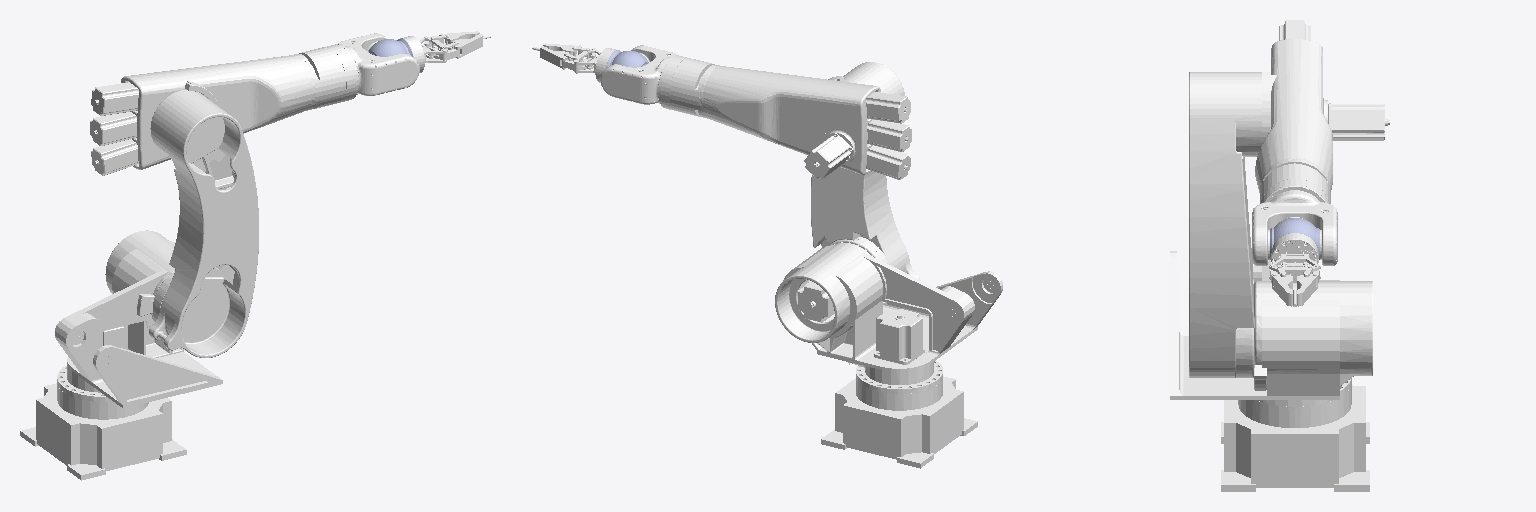
robot.urdf — mysiasun:
<?xml version="1.0" encoding="utf-8"?>
<!-- This URDF was automatically created by SolidWorks to URDF Exporter! Originally created by [author] ([email redacted]) 
     Commit Version: 1.5.1-0-g916b5db  Build Version: 1.5.7152.31018
     For more information, please see http://wiki.ros.org/sw_urdf_exporter -->
<robot
  name="mysiasun">
  <link
    name="base_link">
    <inertial>
      <origin
        xyz="-4.8007E-13 -6.9706E-12 0.11321"
        rpy="0 0 0" />
      <mass
        value="14.928" />
      <inertia
        ixx="0.2462"
        ixy="-9.7488E-13"
        ixz="3.4123E-12"
        iyy="0.2462"
        iyz="-5.4948E-11"
        izz="0.37646" />
    </inertial>
    <visual>
      <origin
        xyz="0 0 0"
        rpy="0 0 0" />
      <geometry>
        <mesh
          filename="package://mysiasun/meshes/base_link.STL" />
      </geometry>
      <material
        name="">
        <color
          rgba="1 1 1 1" />
      </material>
    </visual>
    <collision>
      <origin
        xyz="0 0 0"
        rpy="0 0 0" />
      <geometry>
        <mesh
          filename="package://mysiasun/meshes/base_link.STL" />
      </geometry>
    </collision>
  </link>
  <link
    name="link1">
    <inertial>
      <origin
        xyz="0.13933 -0.023413 0.20748"
        rpy="0 0 0" />
      <mass
        value="24.748" />
      <inertia
        ixx="0.56826"
        ixy="-0.1452"
        ixz="-0.14122"
        iyy="0.82673"
        iyz="-0.035095"
        izz="0.866" />
    </inertial>
    <visual>
      <origin
        xyz="0 0 0"
        rpy="0 0 0" />
      <geometry>
        <mesh
          filename="package://mysiasun/meshes/link1.STL" />
      </geometry>
      <material
        name="">
        <color
          rgba="1 1 1 1" />
      </material>
    </visual>
    <collision>
      <origin
        xyz="0 0 0"
        rpy="0 0 0" />
      <geometry>
        <mesh
          filename="package://mysiasun/meshes/link1.STL" />
      </geometry>
    </collision>
  </link>
  <joint
    name="joint1"
    type="revolute">
    <origin
      xyz="0 0 0.23333"
      rpy="0 0 0" />
    <parent
      link="base_link" />
    <child
      link="link1" />
    <axis
      xyz="0 0 1" />
    <limit
      lower="-3.1416"
      upper="3.1416"
      effort="0"
      velocity="0" />
  </joint>
  <link
    name="link2">
    <inertial>
      <origin
        xyz="0.026218 -0.32284 -0.19106"
        rpy="0 0 0" />
      <mass
        value="13.345" />
      <inertia
        ixx="0.9581"
        ixy="0.0022928"
        ixz="0.0035092"
        iyy="0.15055"
        iyz="0.039264"
        izz="1.0256" />
    </inertial>
    <visual>
      <origin
        xyz="0 0 0"
        rpy="0 0 0" />
      <geometry>
        <mesh
          filename="package://mysiasun/meshes/link2.STL" />
      </geometry>
      <material
        name="">
        <color
          rgba="1 1 1 1" />
      </material>
    </visual>
    <collision>
      <origin
        xyz="0 0 0"
        rpy="0 0 0" />
      <geometry>
        <mesh
          filename="package://mysiasun/meshes/link2.STL" />
      </geometry>
    </collision>
  </link>
  <joint
    name="joint2"
    type="revolute">
    <origin
      xyz="0.26667 0 0.29333"
      rpy="-1.5708 0 0" />
    <parent
      link="link1" />
    <child
      link="link2" />
    <axis
      xyz="0 0 1" />
    <limit
      lower="-1.2476"
      upper="1.2832"
      effort="0"
      velocity="0" />
  </joint>
  <link
    name="link3">
    <inertial>
      <origin
        xyz="0.16312891685154 0.0027846978022037 0.0104476636920152"
        rpy="0 0 0" />
      <mass
        value="31.5720830735543" />
      <inertia
        ixx="0.212082183328278"
        ixy="0.00334208996311578"
        ixz="-0.00703700090905689"
        iyy="0.907574610275585"
        iyz="-0.00148647679660032"
        izz="0.981799844618562" />
    </inertial>
    <visual>
      <origin
        xyz="0 0 0"
        rpy="0 0 0" />
      <geometry>
        <mesh
          filename="package://mysiasun/meshes/link3.STL" />
      </geometry>
      <material
        name="">
        <color
          rgba="1 1 1 1" />
      </material>
    </visual>
    <collision>
      <origin
        xyz="0 0 0"
        rpy="0 0 0" />
      <geometry>
        <mesh
          filename="package://mysiasun/meshes/link3.STL" />
      </geometry>
    </collision>
  </link>
  <joint
    name="joint3"
    type="revolute">
    <origin
      xyz="0 -0.66667 0"
      rpy="0 0 0" />
    <parent
      link="link2" />
    <child
      link="link3" />
    <axis
      xyz="0 0 1" />
    <limit
      lower="-3.5643"
      upper="1.1481"
      effort="0"
      velocity="0" />
  </joint>
  <link
    name="link4">
    <inertial>
      <origin
        xyz="2.1678E-08 0.0016302 0.75842"
        rpy="0 0 0" />
      <mass
        value="2.9322" />
      <inertia
        ixx="0.01925"
        ixy="2.5621E-08"
        ixz="1.1141E-08"
        iyy="0.015446"
        iyz="-0.00020916"
        izz="0.016358" />
    </inertial>
    <visual>
      <origin
        xyz="0 0 0"
        rpy="0 0 0" />
      <geometry>
        <mesh
          filename="package://mysiasun/meshes/link4.STL" />
      </geometry>
      <material
        name="">
        <color
          rgba="1 1 1 1" />
      </material>
    </visual>
    <collision>
      <origin
        xyz="0 0 0"
        rpy="0 0 0" />
      <geometry>
        <mesh
          filename="package://mysiasun/meshes/link4.STL" />
      </geometry>
    </collision>
  </link>
  <joint
    name="joint4"
    type="revolute">
    <origin
      xyz="0 0 0"
      rpy="-1.5708 0 -1.5708" />
    <parent
      link="link3" />
    <child
      link="link4" />
    <axis
      xyz="0 0 1" />
    <limit
      lower="-3.1416"
      upper="3.1416"
      effort="0"
      velocity="0" />
  </joint>
  <link
    name="link5">
    <inertial>
      <origin
        xyz="-5.0048E-08 0.011531 -0.0027047"
        rpy="0 0 0" />
      <mass
        value="1.4499" />
      <inertia
        ixx="0.0029576"
        ixy="-3.5869E-10"
        ixz="-1.8738E-09"
        iyy="0.0032638"
        iyz="1.0282E-05"
        izz="0.0036646" />
    </inertial>
    <visual>
      <origin
        xyz="0 0 0"
        rpy="0 0 0" />
      <geometry>
        <mesh
          filename="package://mysiasun/meshes/link5.STL" />
      </geometry>
      <material
        name="">
        <color
          rgba="0.79216 0.81961 0.93333 1" />
      </material>
    </visual>
    <collision>
      <origin
        xyz="0 0 0"
        rpy="0 0 0" />
      <geometry>
        <mesh
          filename="package://mysiasun/meshes/link5.STL" />
      </geometry>
    </collision>
  </link>
  <joint
    name="joint5"
    type="revolute">
    <origin
      xyz="0 0 0.87133"
      rpy="1.5708 0 0" />
    <parent
      link="link4" />
    <child
      link="link5" />
    <axis
      xyz="0 0 1" />
    <limit
      lower="-1.92"
      upper="1.92"
      effort="0"
      velocity="0" />
  </joint>
  <link
    name="link6">
    <inertial>
      <origin
        xyz="4.402E-05 -3.3766E-06 0.18695"
        rpy="0 0 0" />
      <mass
        value="0.84592" />
      <inertia
        ixx="0.0011741"
        ixy="3.3504E-09"
        ixz="4.006E-09"
        iyy="0.0010505"
        iyz="2.6353E-10"
        izz="0.0011497" />
    </inertial>
    <visual>
      <origin
        xyz="0 0 0"
        rpy="0 0 0" />
      <geometry>
        <mesh
          filename="package://mysiasun/meshes/link6.STL" />
      </geometry>
      <material
        name="">
        <color
          rgba="1 1 1 1" />
      </material>
    </visual>
    <collision>
      <origin
        xyz="0 0 0"
        rpy="0 0 0" />
      <geometry>
        <mesh
          filename="package://mysiasun/meshes/link6.STL" />
      </geometry>
    </collision>
  </link>
  <joint
    name="joint6"
    type="revolute">
    <origin
      xyz="0 0 0"
      rpy="-1.5708 0 0" />
    <parent
      link="link5" />
    <child
      link="link6" />
    <axis
      xyz="0 0 1" />
    <limit
      lower="-3.14"
      upper="3.14"
      effort="0"
      velocity="0" />
  </joint>
  <link
    name="end">
    <inertial>
      <origin
        xyz="1.1102E-16 -1.9439E-19 -0.05"
        rpy="0 0 0" />
      <mass
        value="0.007854" />
      <inertia
        ixx="6.5941E-06"
        ixy="-3.4466E-25"
        ixz="6.6058E-22"
        iyy="6.5941E-06"
        iyz="2.4926E-23"
        izz="9.8175E-08" />
    </inertial>
    <visual>
      <origin
        xyz="0 0 0"
        rpy="0 0 0" />
      <geometry>
        <mesh
          filename="package://mysiasun/meshes/end.STL" />
      </geometry>
      <material
        name="">
        <color
          rgba="1 1 1 1" />
      </material>
    </visual>
    <collision>
      <origin
        xyz="0 0 0"
        rpy="0 0 0" />
      <geometry>
        <mesh
          filename="package://mysiasun/meshes/end.STL" />
      </geometry>
    </collision>
  </link>
  <joint
    name="end"
    type="fixed">
    <origin
      xyz="0 0 0.40667"
      rpy="0 0 0" />
    <parent
      link="link6" />
    <child
      link="end" />
    <axis
      xyz="0 0 0" />
  </joint>
</robot>

--- What the picture shows (computed from the rendered views, not written in the file) ---
The picture shows the robot from 3 angles, left to right: view 1: azimuth 30°, elevation 25°; view 2: azimuth 150°, elevation 25°; view 3: azimuth 270°, elevation 25°; orthographic projection.
Robot: mysiasun — 8 links, 7 joints (6 revolute, 1 fixed); root link base_link; default pose: every joint at zero.
Visible links, largest first — view 1: link2, link1, link3, base_link, link4, link6, link5; view 2: link1, link3, base_link, link2, link4, link6, link5; view 3: link2, link1, base_link, link3, link4, link6, link5.
Boxes of the visible links, box(x1,y1,x2,y2) form: link2: box(149, 90, 258, 357); link1: box(55, 230, 222, 407); link3: box(90, 47, 345, 175); base_link: box(20, 383, 186, 480); link4: box(327, 33, 419, 102); link6: box(402, 31, 482, 72); link5: box(369, 38, 413, 57); link1: box(775, 243, 1002, 393); link3: box(670, 58, 911, 179); base_link: box(821, 376, 977, 468); link2: box(811, 62, 919, 278); link4: box(600, 45, 686, 110); link6: box(540, 43, 615, 82); link5: box(606, 50, 648, 67); link2: box(1189, 72, 1270, 377); link1: box(1170, 251, 1372, 406); base_link: box(1221, 385, 1369, 491); link3: box(1255, 20, 1389, 203); link4: box(1252, 179, 1337, 265); link6: box(1269, 233, 1320, 306); link5: box(1270, 218, 1319, 259).
Bounding box of the posed robot: 1.78 × 0.622 × 1.37 m (x, y, z).
8 mesh visuals loaded from 8 distinct referenced files (8 binary STL).
